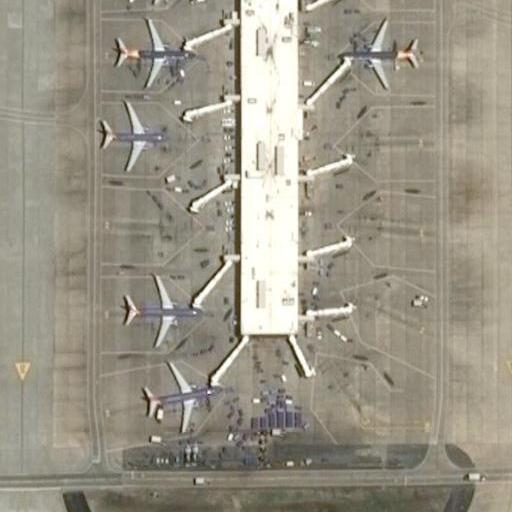Aircraft: (333, 9, 426, 93), (114, 274, 216, 350), (107, 16, 200, 90), (90, 98, 177, 175), (131, 360, 232, 422), (117, 0, 200, 7)
